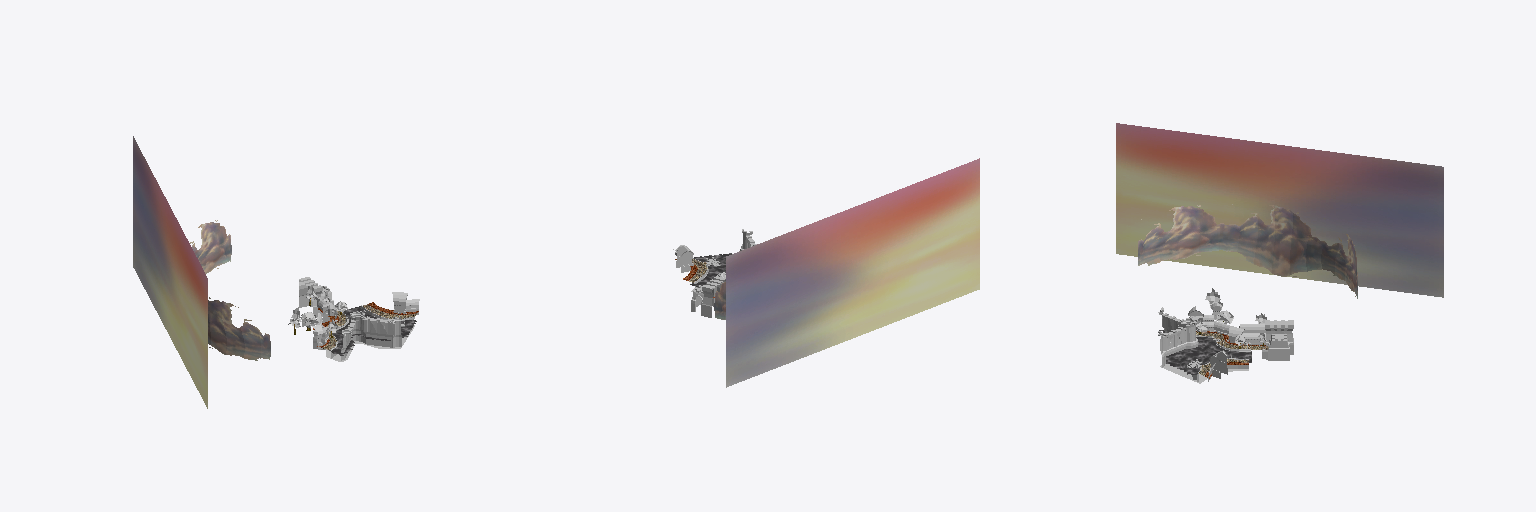
The picture shows the model from 3 angles: view 1: azimuth 30°, elevation 25°; view 2: azimuth 150°, elevation 25°; view 3: azimuth 270°, elevation 25°; orthographic projection.
Parts seen in each view (by area): view 1: UI_Human; view 2: UI_Human; view 3: UI_Human.
Boxes of the visible parts, x1=… form: UI_Human: x1=133, y1=136, x2=419, y2=408; UI_Human: x1=673, y1=158, x2=979, y2=387; UI_Human: x1=1116, y1=123, x2=1443, y2=383.
Bounding box in the file's own units: 316 × 161 × 346.
26 materials, 7 textured.